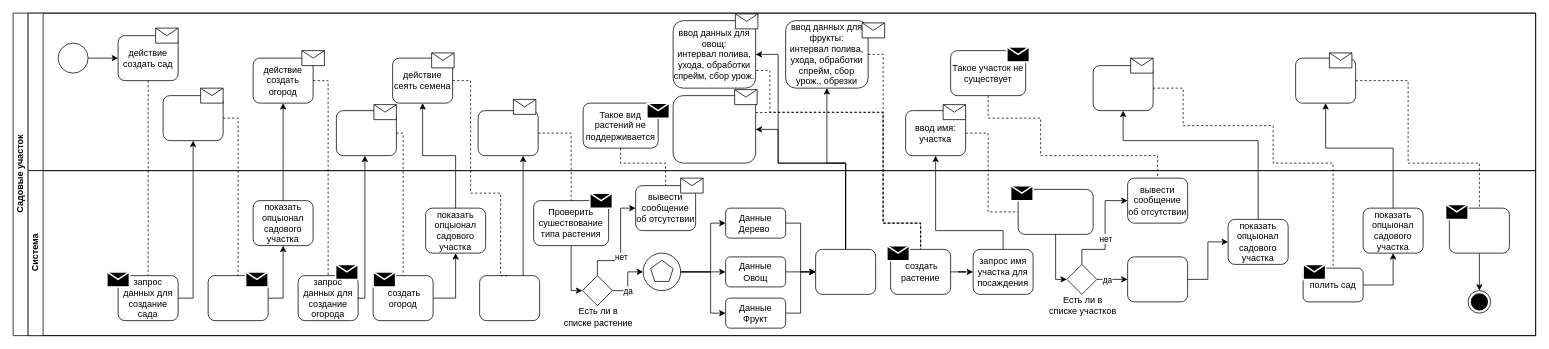
Image size: 1549x349. Some labels were removed from this diagram. The box of each missing label's shape, as (x1, y1, x2, y2) in pixels:
ввод данных для дерева: интервал полива, ухода, обработки почва: (672, 95, 756, 163)
ввод данных: имя растения, тип растения: (477, 110, 538, 156)
ввод данных: имя сада, размер: (162, 95, 223, 141)
ввод имя огорода: (336, 110, 396, 156)
действие закрыть сад: (1295, 57, 1356, 103)
действие полить растение: (1092, 65, 1153, 111)
добавить растение на участок: (1127, 256, 1188, 302)
запрос данных для посаждения растения: (815, 249, 876, 294)
запрос данных для посаждения семян: (479, 275, 540, 321)
Остановить программу: (1449, 207, 1509, 253)
Пользователь: (27, 12, 1536, 171)
Проверить сушествование участка: (1017, 189, 1093, 234)
создать сад: (207, 275, 268, 321)
